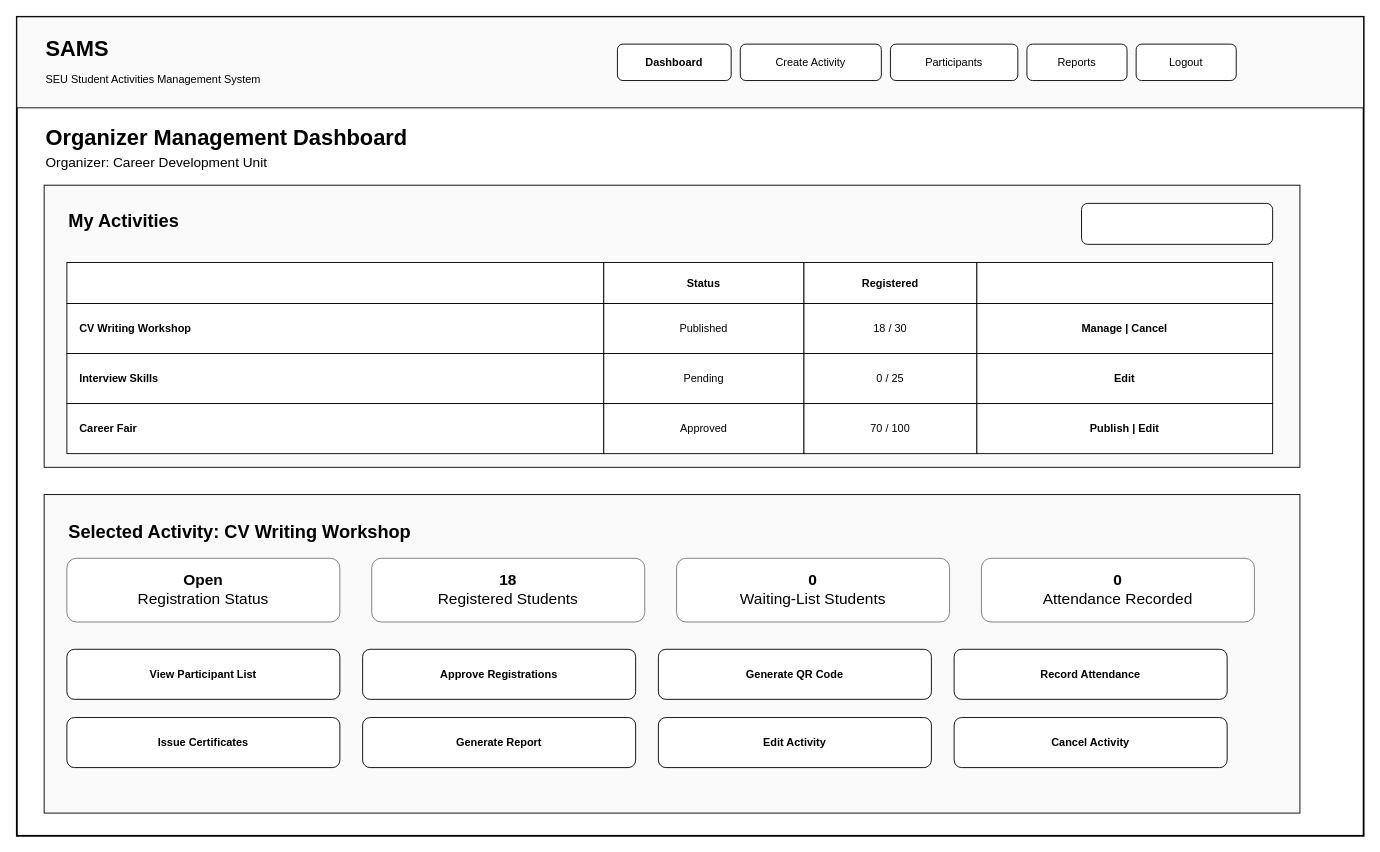
The diagram is 1380 pixels wide and 852 high, and some of its shapes have lost their labels. Here are the shapes that lost their labels. From the top down, the box of each, then its label:
(1081, 202, 1273, 244): + Create New Activity
(66, 262, 604, 303): Activity
(976, 262, 1273, 303): Actions
